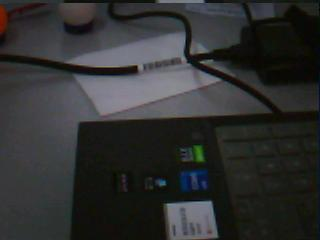oball: (0, 7, 8, 37)
